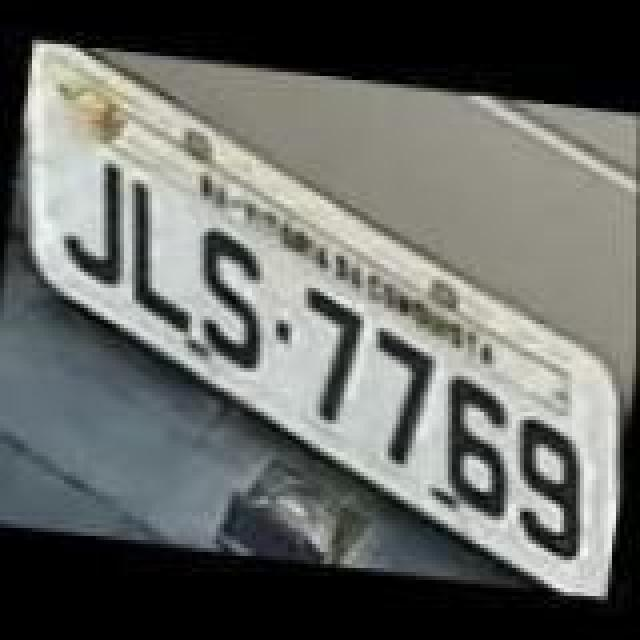6: (422, 368, 522, 516)
7: (360, 330, 448, 474), (284, 280, 368, 424)
9: (496, 416, 600, 568)
J: (50, 152, 142, 288)
L: (110, 176, 210, 332)
S: (180, 228, 280, 376)
